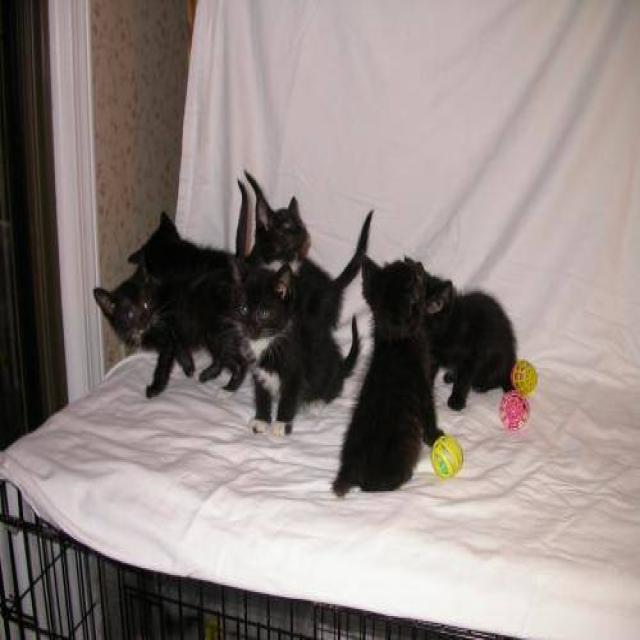cat: (330, 252, 447, 496), (92, 253, 232, 411), (403, 253, 517, 411), (237, 256, 315, 456), (220, 164, 316, 256), (128, 208, 197, 280)
